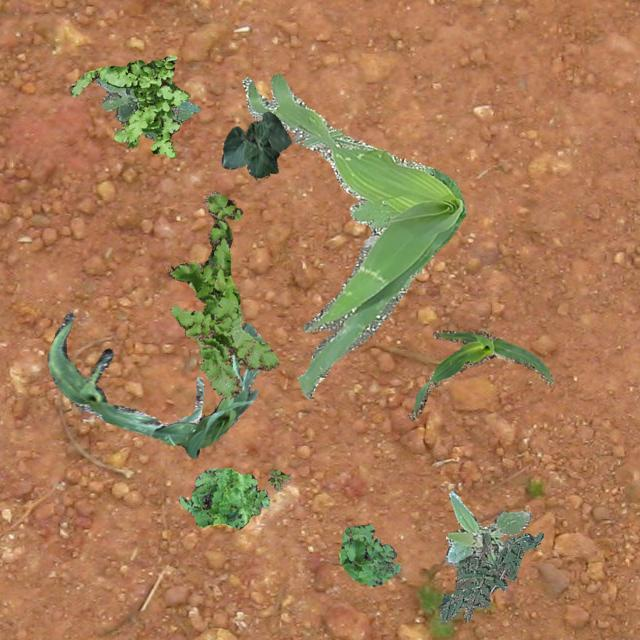crop: (46, 310, 202, 434), (150, 322, 264, 458), (406, 330, 552, 420), (220, 110, 290, 176)
weed: (242, 73, 464, 400), (168, 190, 278, 397), (68, 54, 188, 158), (438, 532, 542, 622), (94, 76, 198, 140), (444, 490, 532, 564), (178, 467, 268, 528), (338, 522, 400, 586), (266, 468, 288, 489)
